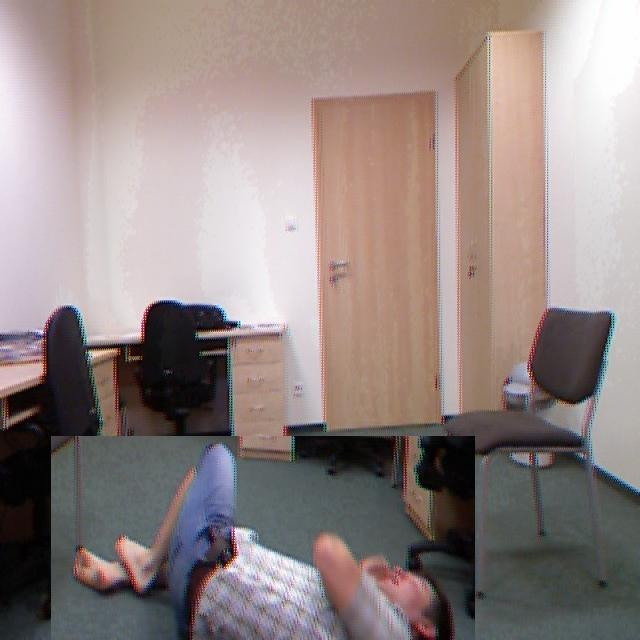Fall: (45, 424, 462, 640)
